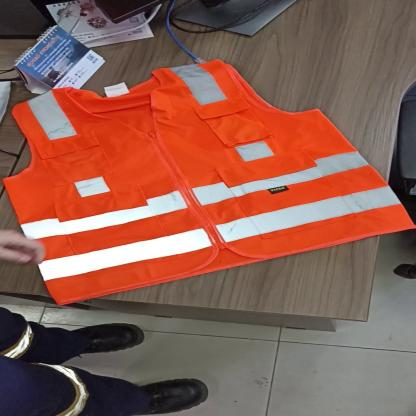colete: (2, 63, 415, 304)
